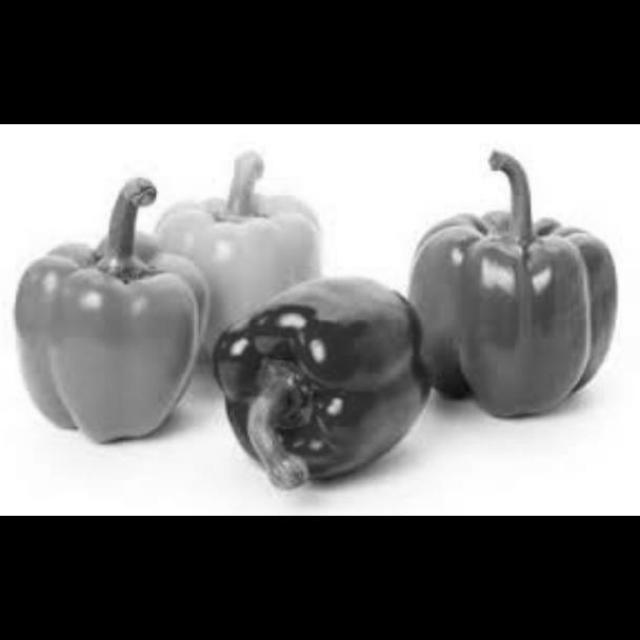bell pepper: (413, 180, 625, 420), (208, 268, 432, 494), (15, 226, 208, 444), (152, 181, 324, 354)
